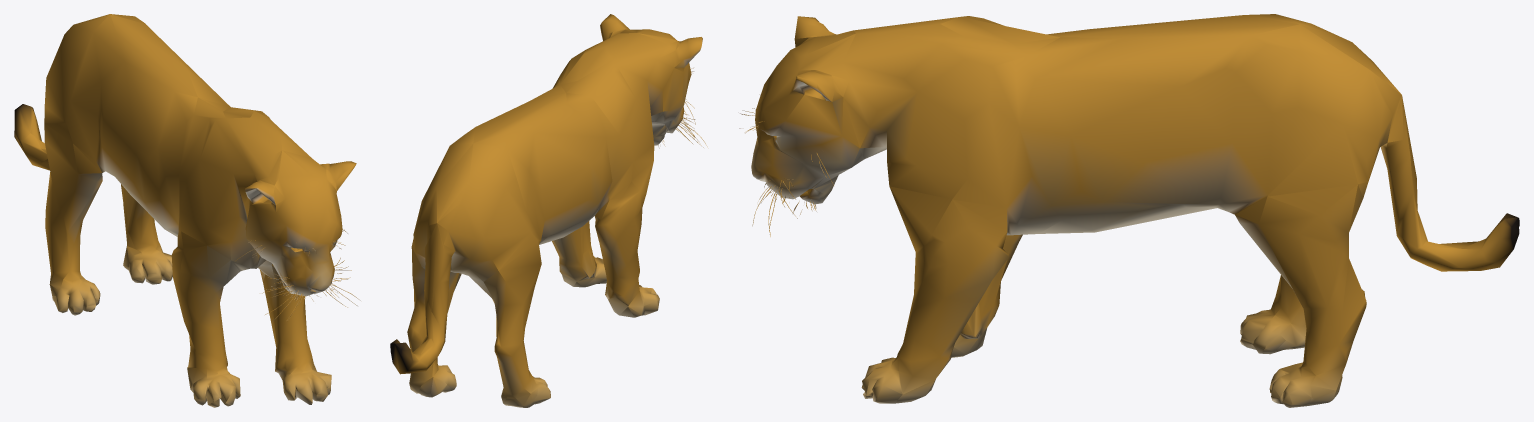
Rendered from onca.glb.
3 renders of one model, left to right at view 1: azimuth 30°, elevation 25°; view 2: azimuth 150°, elevation 25°; view 3: azimuth 270°, elevation 25°, orthographic. The views are drawn at different scales.
Parts seen in each view (by area): view 1: Onça; view 2: Onça; view 3: Onça.
Part boxes in pixels (x1,y1,x2,y2): Onça: (14, 14, 360, 407); Onça: (390, 14, 707, 407); Onça: (739, 14, 1519, 407).
Size of the model in its own units: 0.2466 by 0.4956 by 1.
